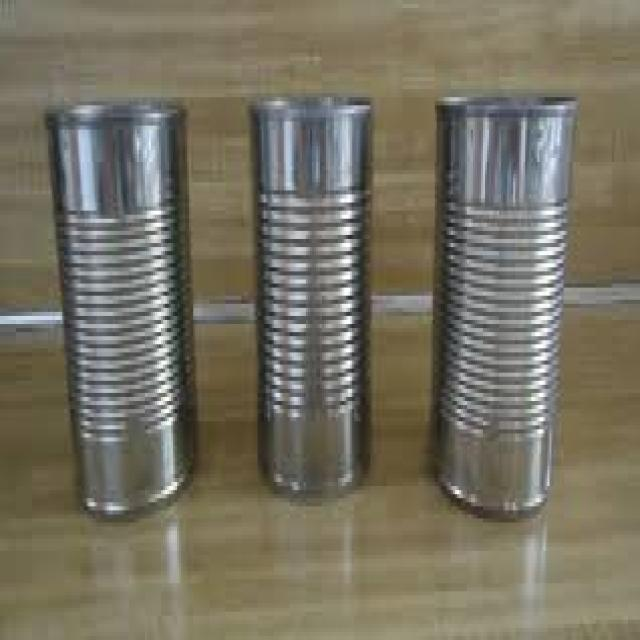metal: (40, 97, 191, 519), (433, 89, 576, 515), (248, 89, 375, 498)
